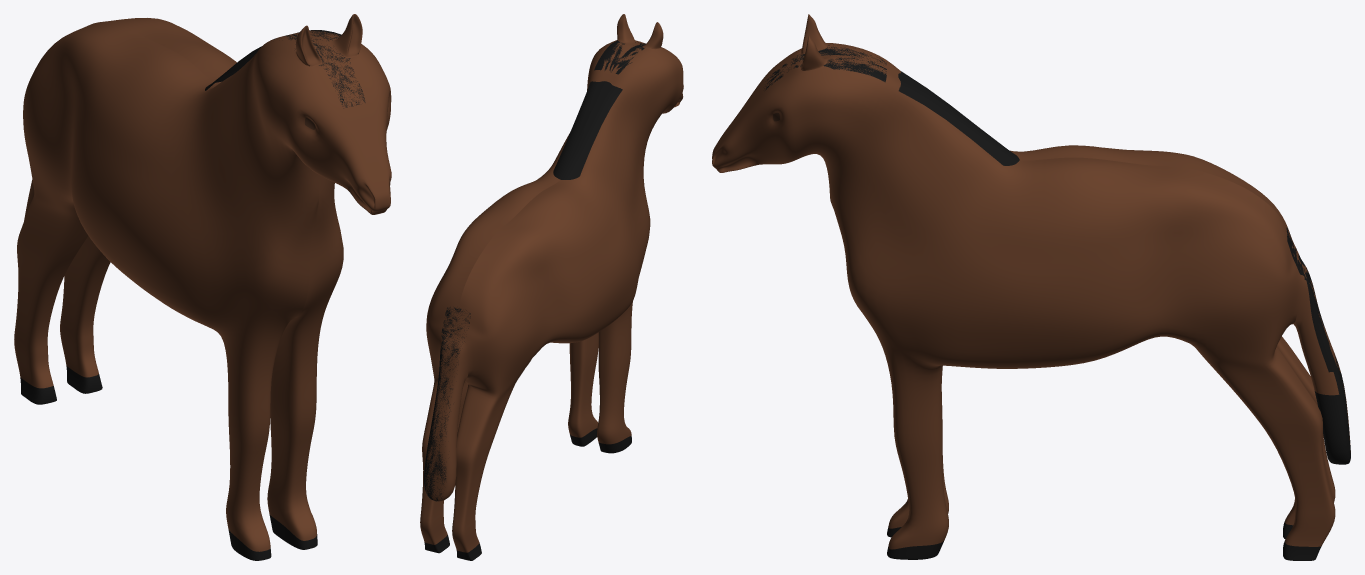
The model's file is horse.fbx.
3 views of the same model, side by side, from view 1: azimuth 30°, elevation 25°; view 2: azimuth 150°, elevation 25°; view 3: azimuth 270°, elevation 25° (orthographic). The views are drawn at different scales.
Visible parts, largest first — view 1: Horse; view 2: Horse; view 3: Horse.
Boxes of the visible parts, <box> form: Horse: <box>14,14,391,560</box>; Horse: <box>420,14,683,560</box>; Horse: <box>712,14,1350,560</box>.
Bounding box in the file's own units: 123 × 377 × 419.
